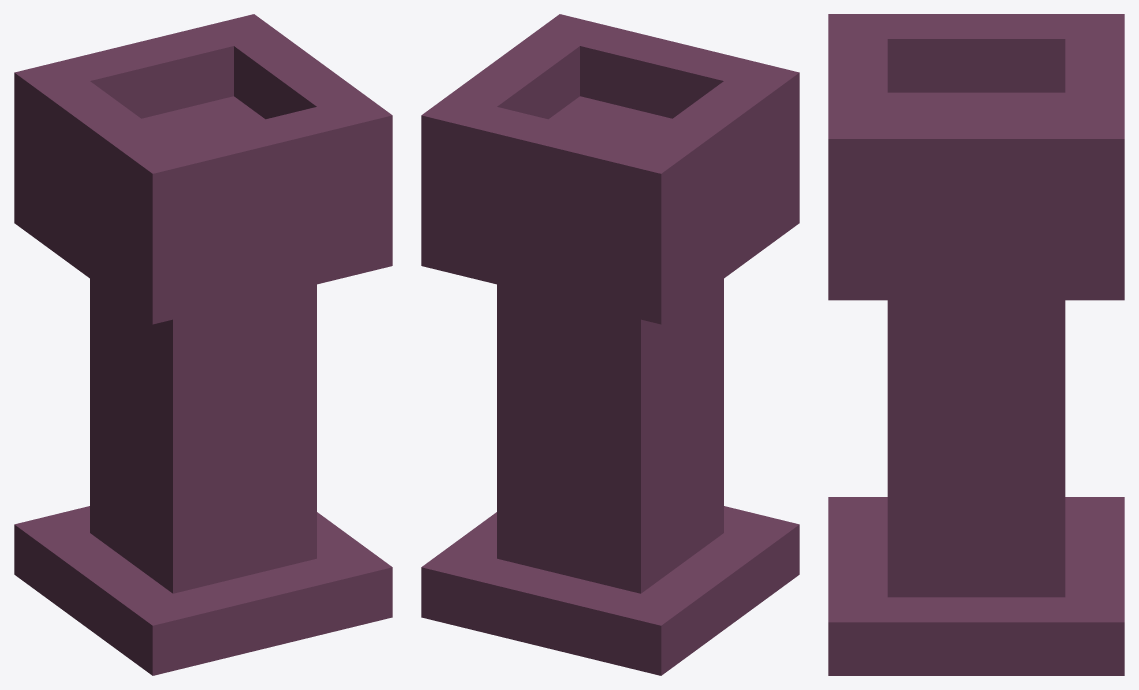
Rendered from ground_torch_c_a_unlit.obj.
3 views of the same model, side by side, from view 1: azimuth 30°, elevation 25°; view 2: azimuth 150°, elevation 25°; view 3: azimuth 270°, elevation 25° (orthographic). The views are drawn at different scales.
Size of the model in its own units: 0.5 by 1 by 0.5.
Materials: 1 (1 with a texture image).
